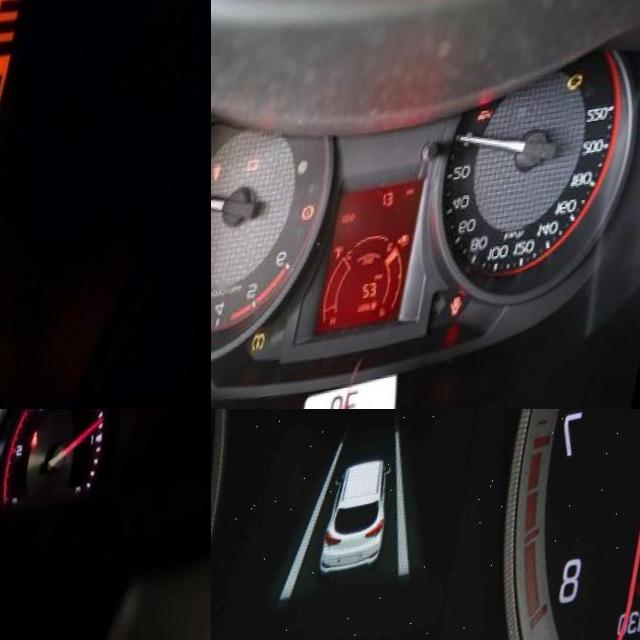Seat Belt: (43, 443, 53, 460)
